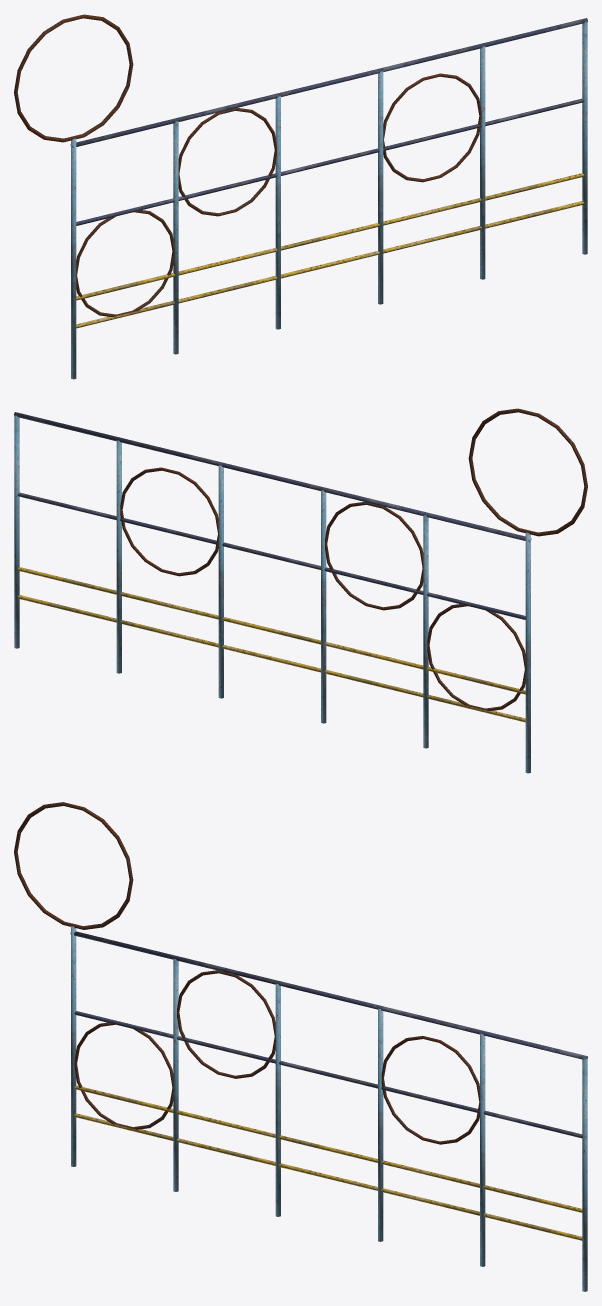
File: playground_ring_climber_lod2_web.glb
The picture shows the model from 3 angles, top to bottom: view 1: azimuth 30°, elevation 25°; view 2: azimuth 150°, elevation 25°; view 3: azimuth 330°, elevation 25°; orthographic projection.
Visible parts, largest first — view 1: RingClimber_Mesh; view 2: RingClimber_Mesh; view 3: RingClimber_Mesh.
Boxes of the visible parts, bbox=[...] form: RingClimber_Mesh: bbox=[14, 14, 587, 379]; RingClimber_Mesh: bbox=[14, 408, 587, 773]; RingClimber_Mesh: bbox=[14, 802, 587, 1291].
Bounding box in the file's own units: 6.45 × 3.88 × 0.052.
Materials: 4 (4 with a texture image).
